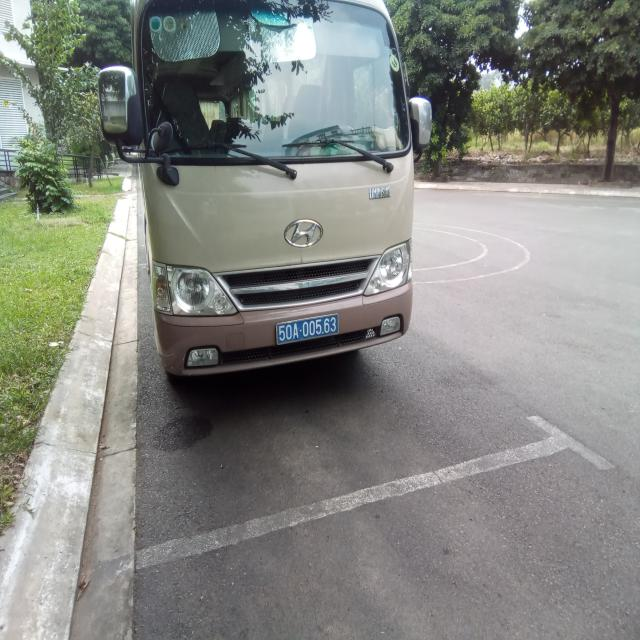bien_xanh: (276, 312, 339, 346)
